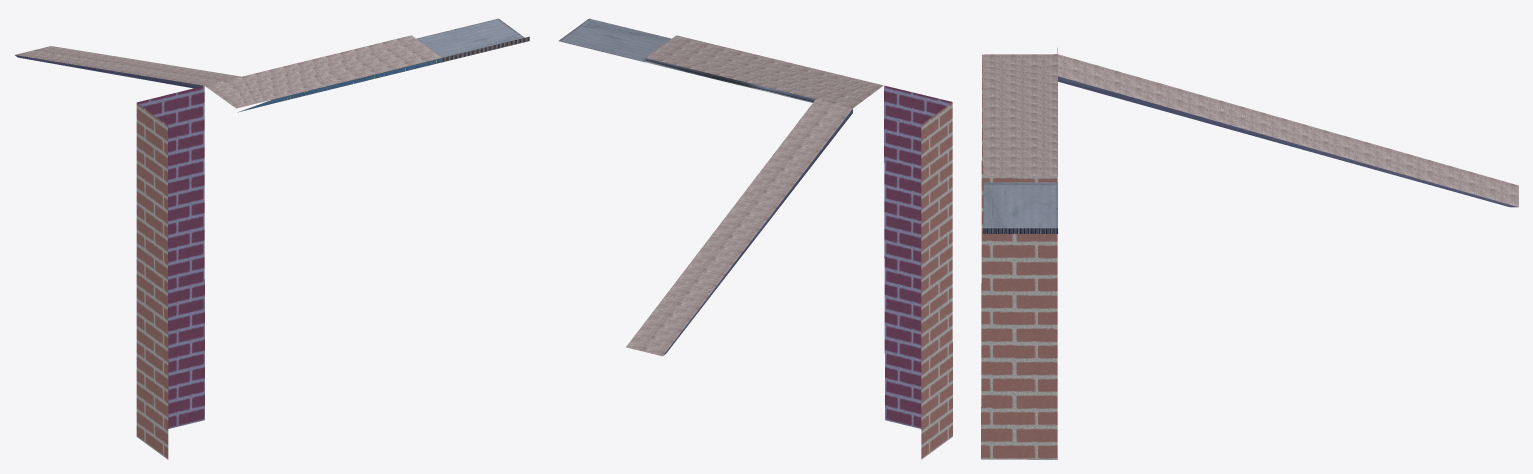
3 renders of one model, left to right at view 1: azimuth 30°, elevation 25°; view 2: azimuth 150°, elevation 25°; view 3: azimuth 270°, elevation 25°, orthographic. The views are drawn at different scales.
Visible parts, largest first — view 1: Object11; view 2: Object11; view 3: Object11.
Part boxes in pixels (x1,y1,x2,y2): Object11: (15,18,529,459); Object11: (558,18,952,459); Object11: (981,48,1518,459).
Size of the model in its own units: 1659 by 1464 by 1760.
7 materials, 7 textured.
